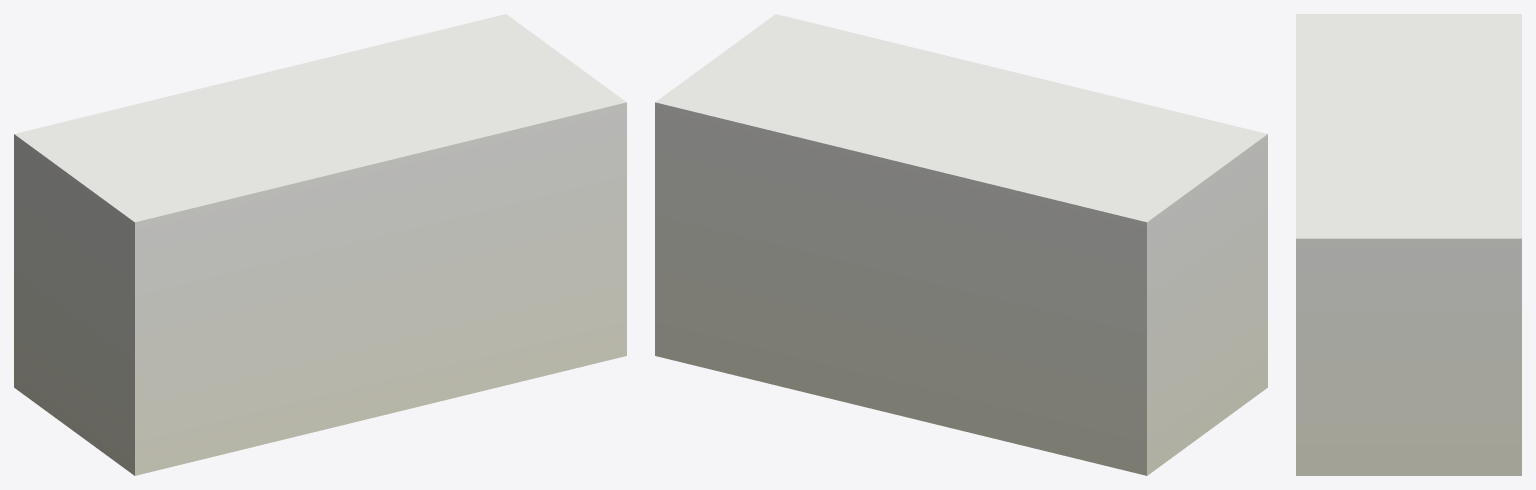
3 renders of one model, left to right at view 1: azimuth 30°, elevation 25°; view 2: azimuth 150°, elevation 25°; view 3: azimuth 270°, elevation 25°, orthographic. The views are drawn at different scales.
Visible parts, largest first — view 1: Cube.001; view 2: Cube.001; view 3: Cube.001.
Boxes of the visible parts, left/top/right/bottom form: Cube.001: left=14, top=14, right=626, bottom=475; Cube.001: left=655, top=14, right=1267, bottom=475; Cube.001: left=1296, top=14, right=1521, bottom=475.
Bounding box in the file's own units: 129 × 63.77 × 55.01.
